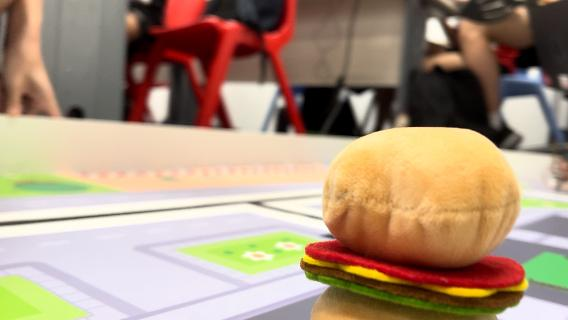burger: (298, 122, 532, 314)
